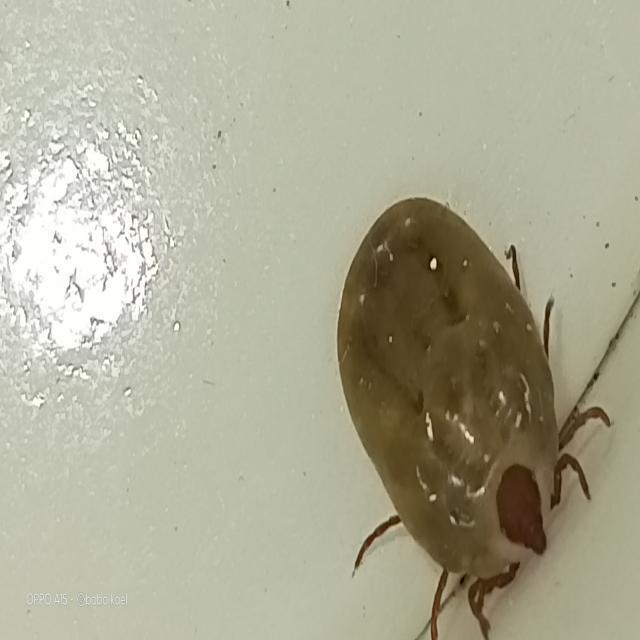Rhipicephalus Sanguineus-F-Fed: (336, 197, 609, 640)
